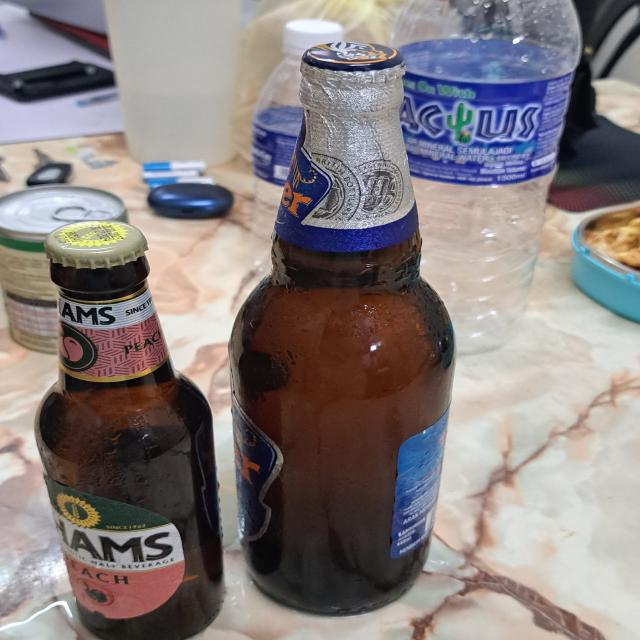can: (0, 187, 128, 355)
glass bottle: (234, 40, 455, 619), (34, 217, 221, 640)
plastic bottle: (392, 0, 581, 357), (248, 58, 352, 279)
plastic bottle cap: (281, 20, 346, 56)
pop tab: (51, 205, 115, 221)
